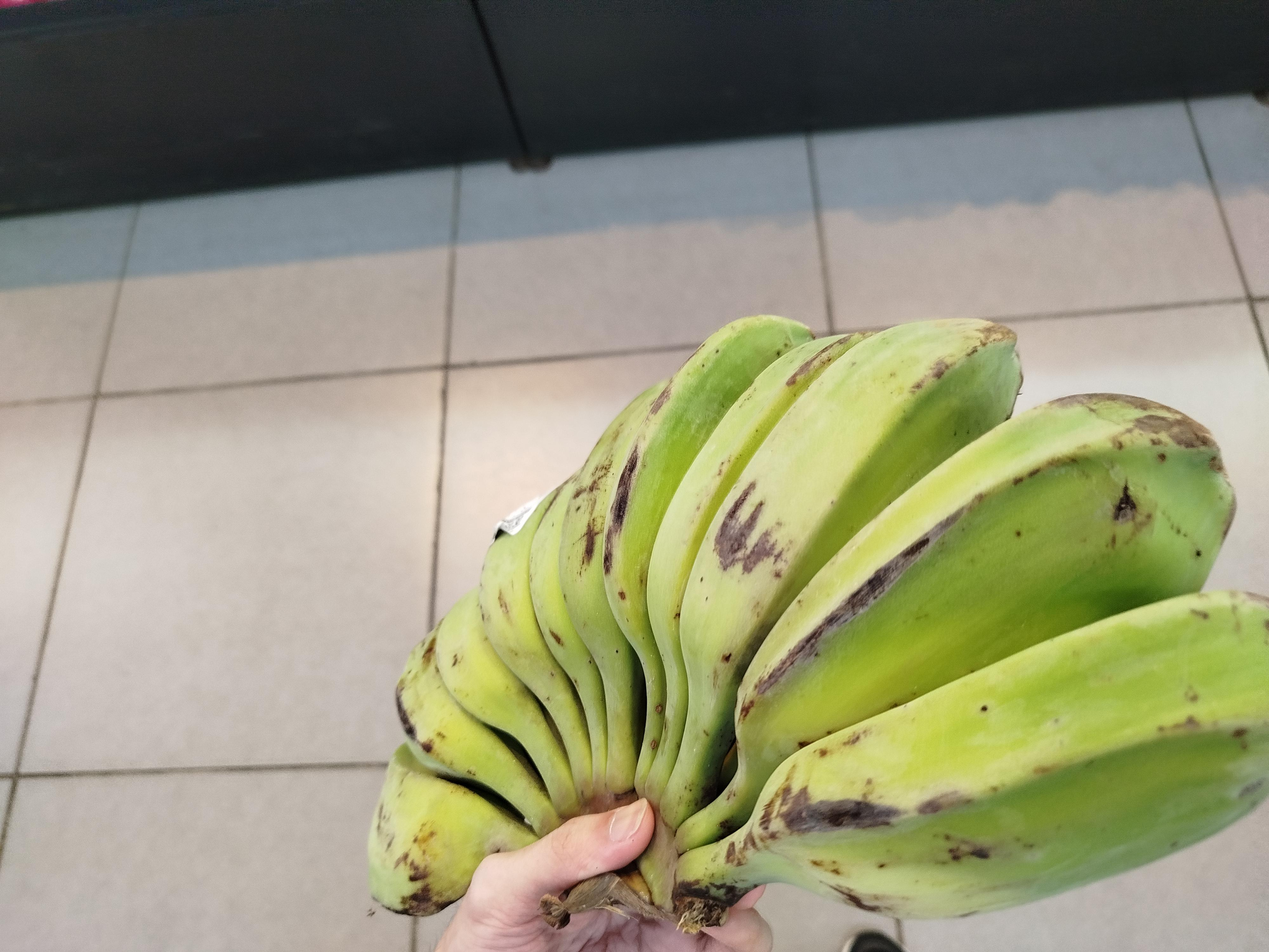underripe: (369, 317, 1269, 918)
